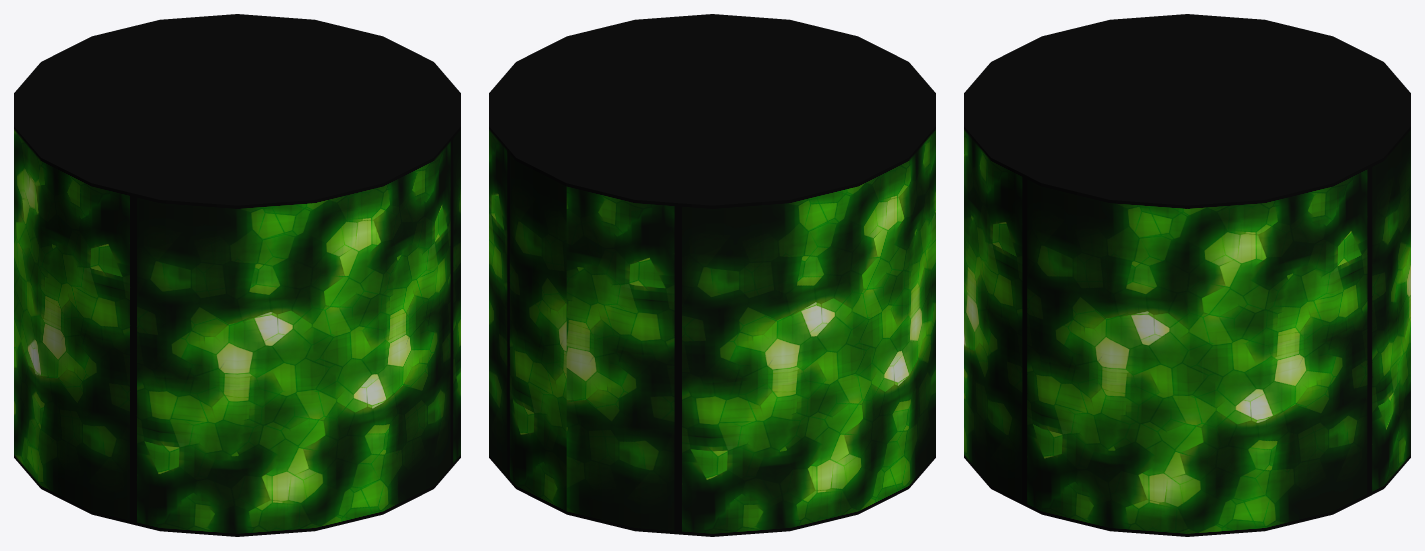
Rendered from CubeBaseFrontColumnN2.fbx.
3 views of the same model, side by side, from view 1: azimuth 30°, elevation 25°; view 2: azimuth 150°, elevation 25°; view 3: azimuth 270°, elevation 25° (orthographic).
Parts seen in each view (by area): view 1: Cylinder07; view 2: Cylinder07; view 3: Cylinder07.
Part boxes in pixels (<box>): Cylinder07: <box>14,14,460,536</box>; Cylinder07: <box>489,14,935,536</box>; Cylinder07: <box>964,14,1410,536</box>.
Size of the model in its own units: 0.9539 by 0.7685 by 0.9394.
1 material, 1 textured.
